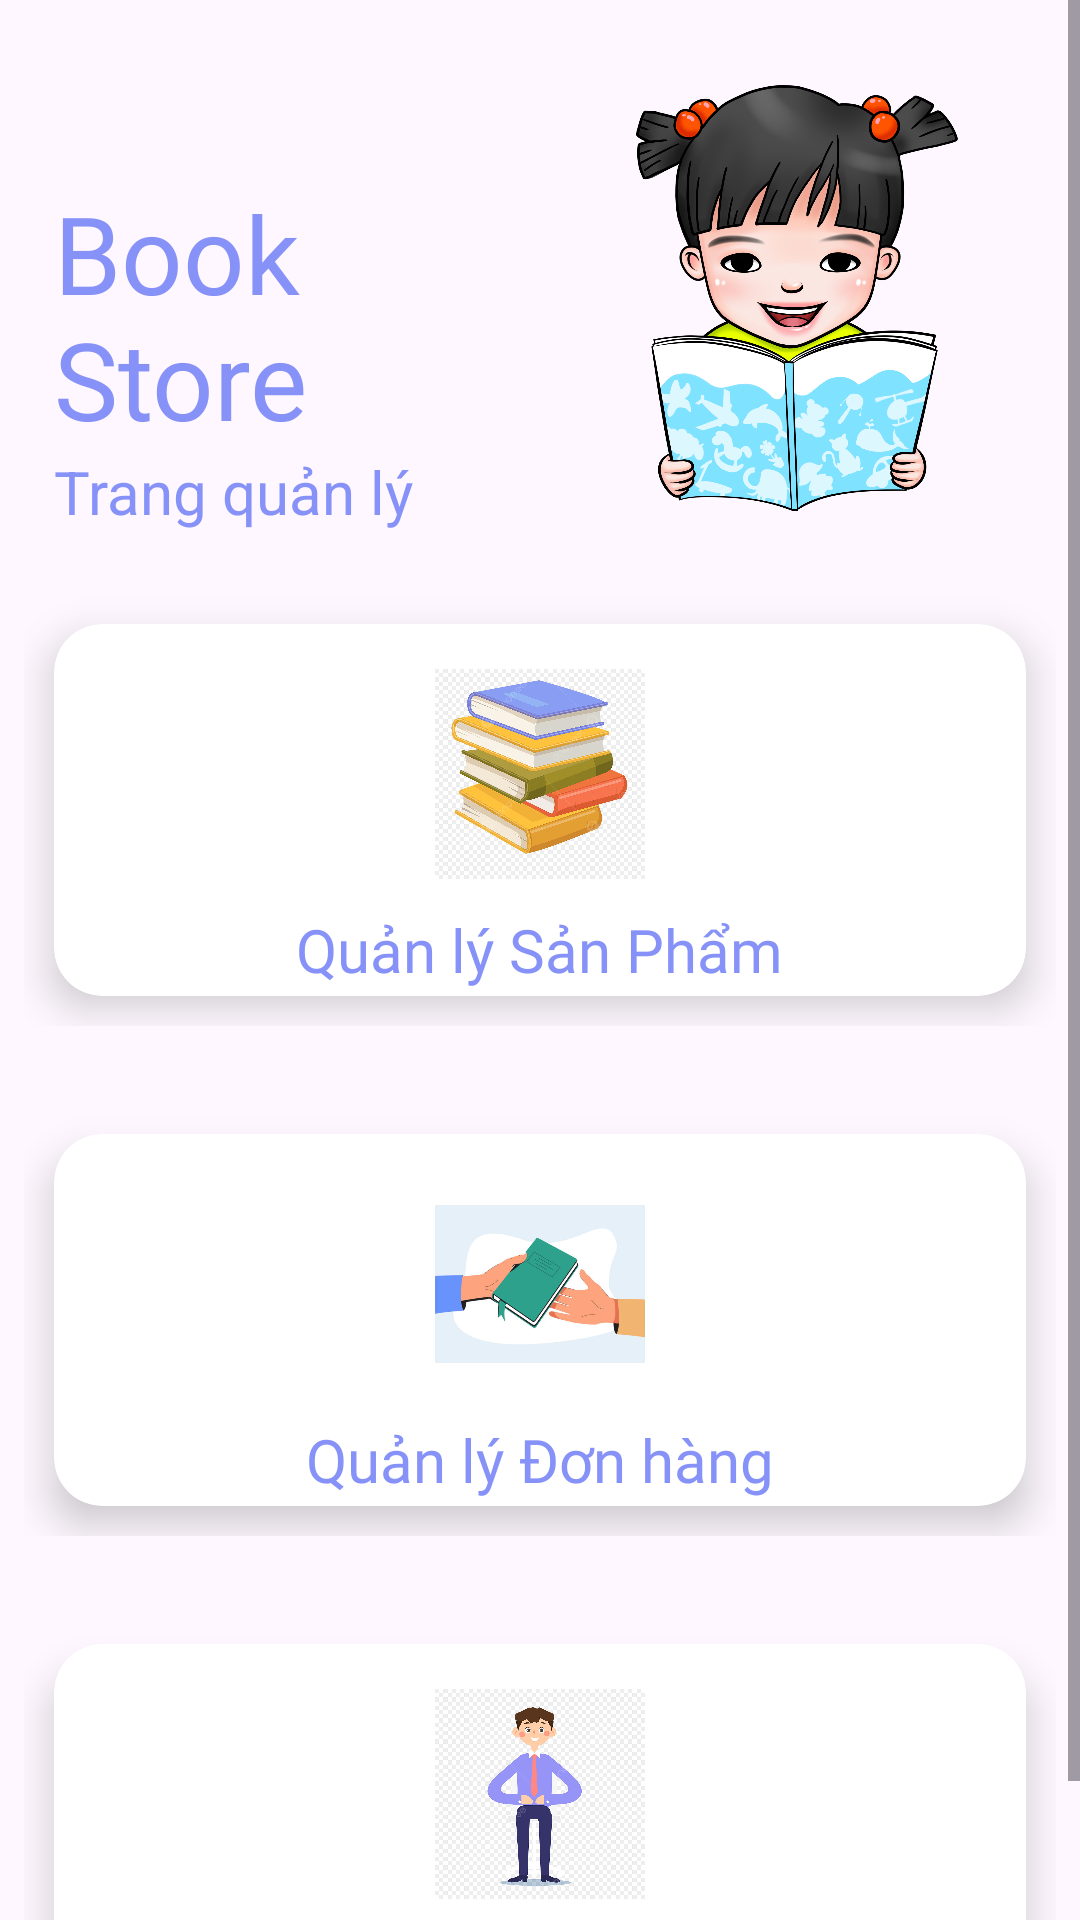

Point at icon controls on the screen. Image size 1080*1920, points as (x=x, y=y).
book: (x=543, y=775)
